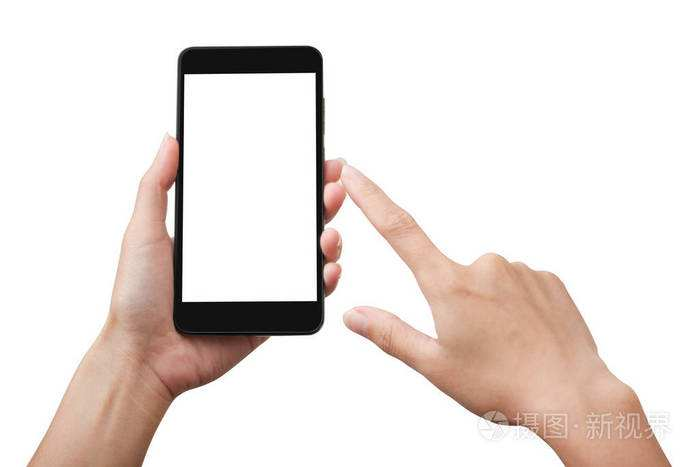phone: (90, 42, 350, 405)
